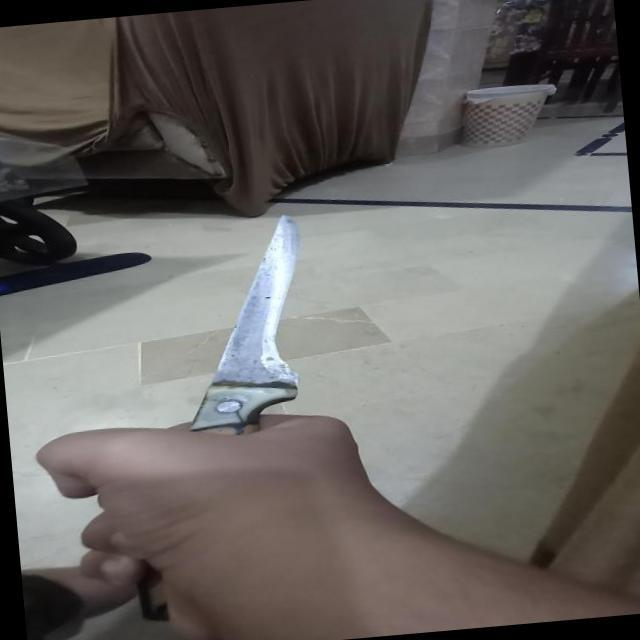Knife: (70, 207, 339, 634)
